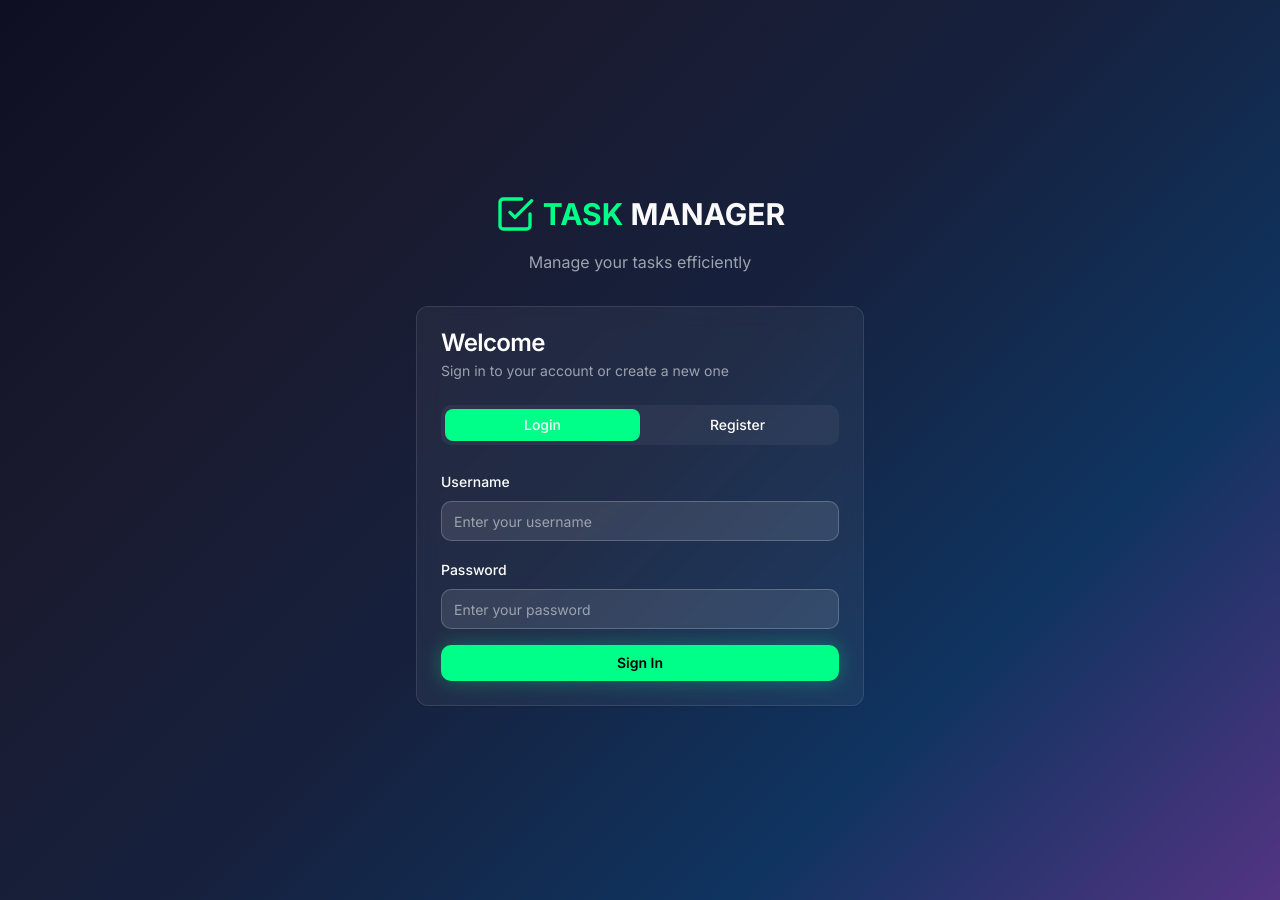
Test: LoginForm › renders register form when switching tabs
The width and height of the screenshot is (1280, 900).
Click the tab "Register" at (738, 425), box [640,409,835,441]
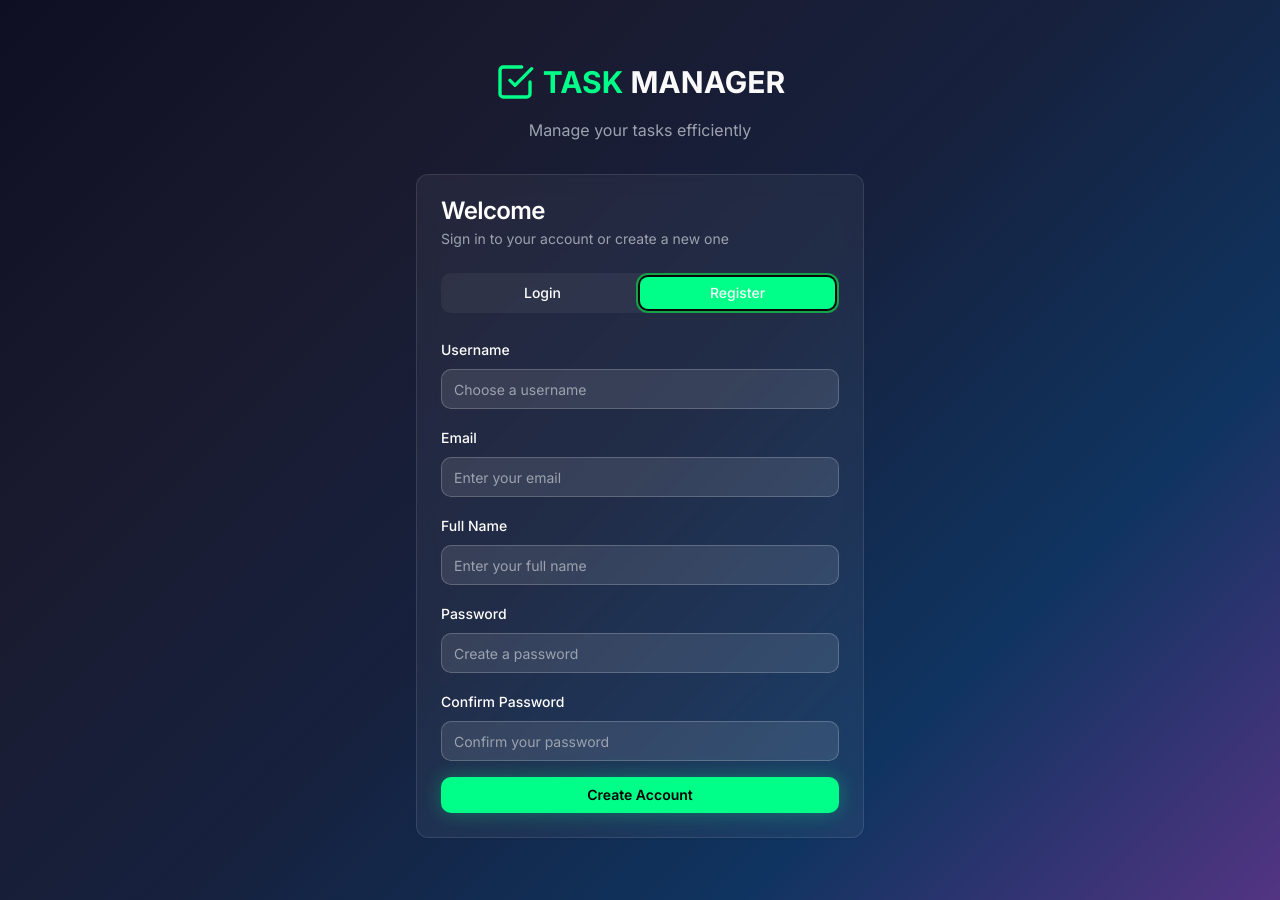
Expected: the field labelled "Email" is shown, [441,457,839,497]
Expected: the field labelled "Full Name" is shown, [441,545,839,585]
Expected: the password field labelled "Confirm Password" is shown, [441,721,839,761]
